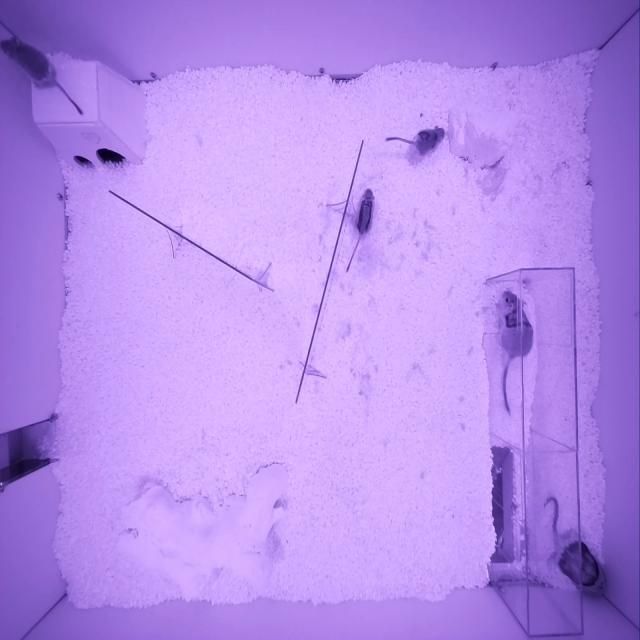adult_back: (553, 530, 605, 598)
adult_front: (497, 291, 534, 360)
pup_fluffy: (0, 37, 57, 88)
pup_spotted: (414, 125, 446, 156)
pup_v_stripe: (355, 186, 375, 241)
